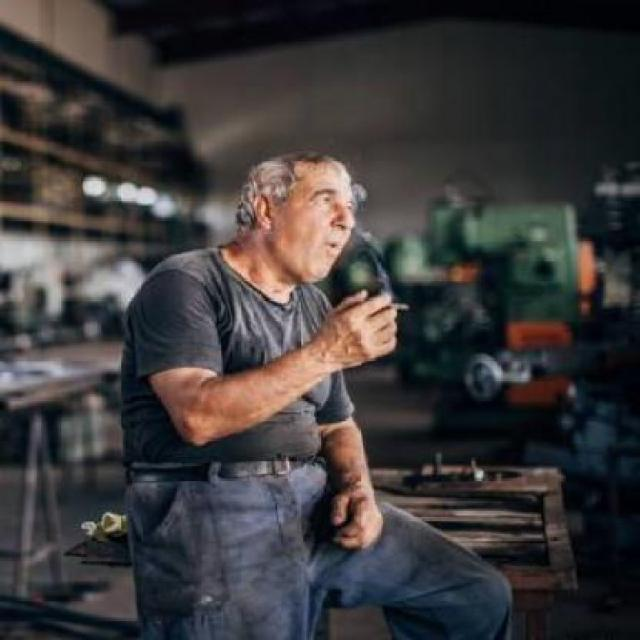cigarette: (342, 285, 412, 332)
